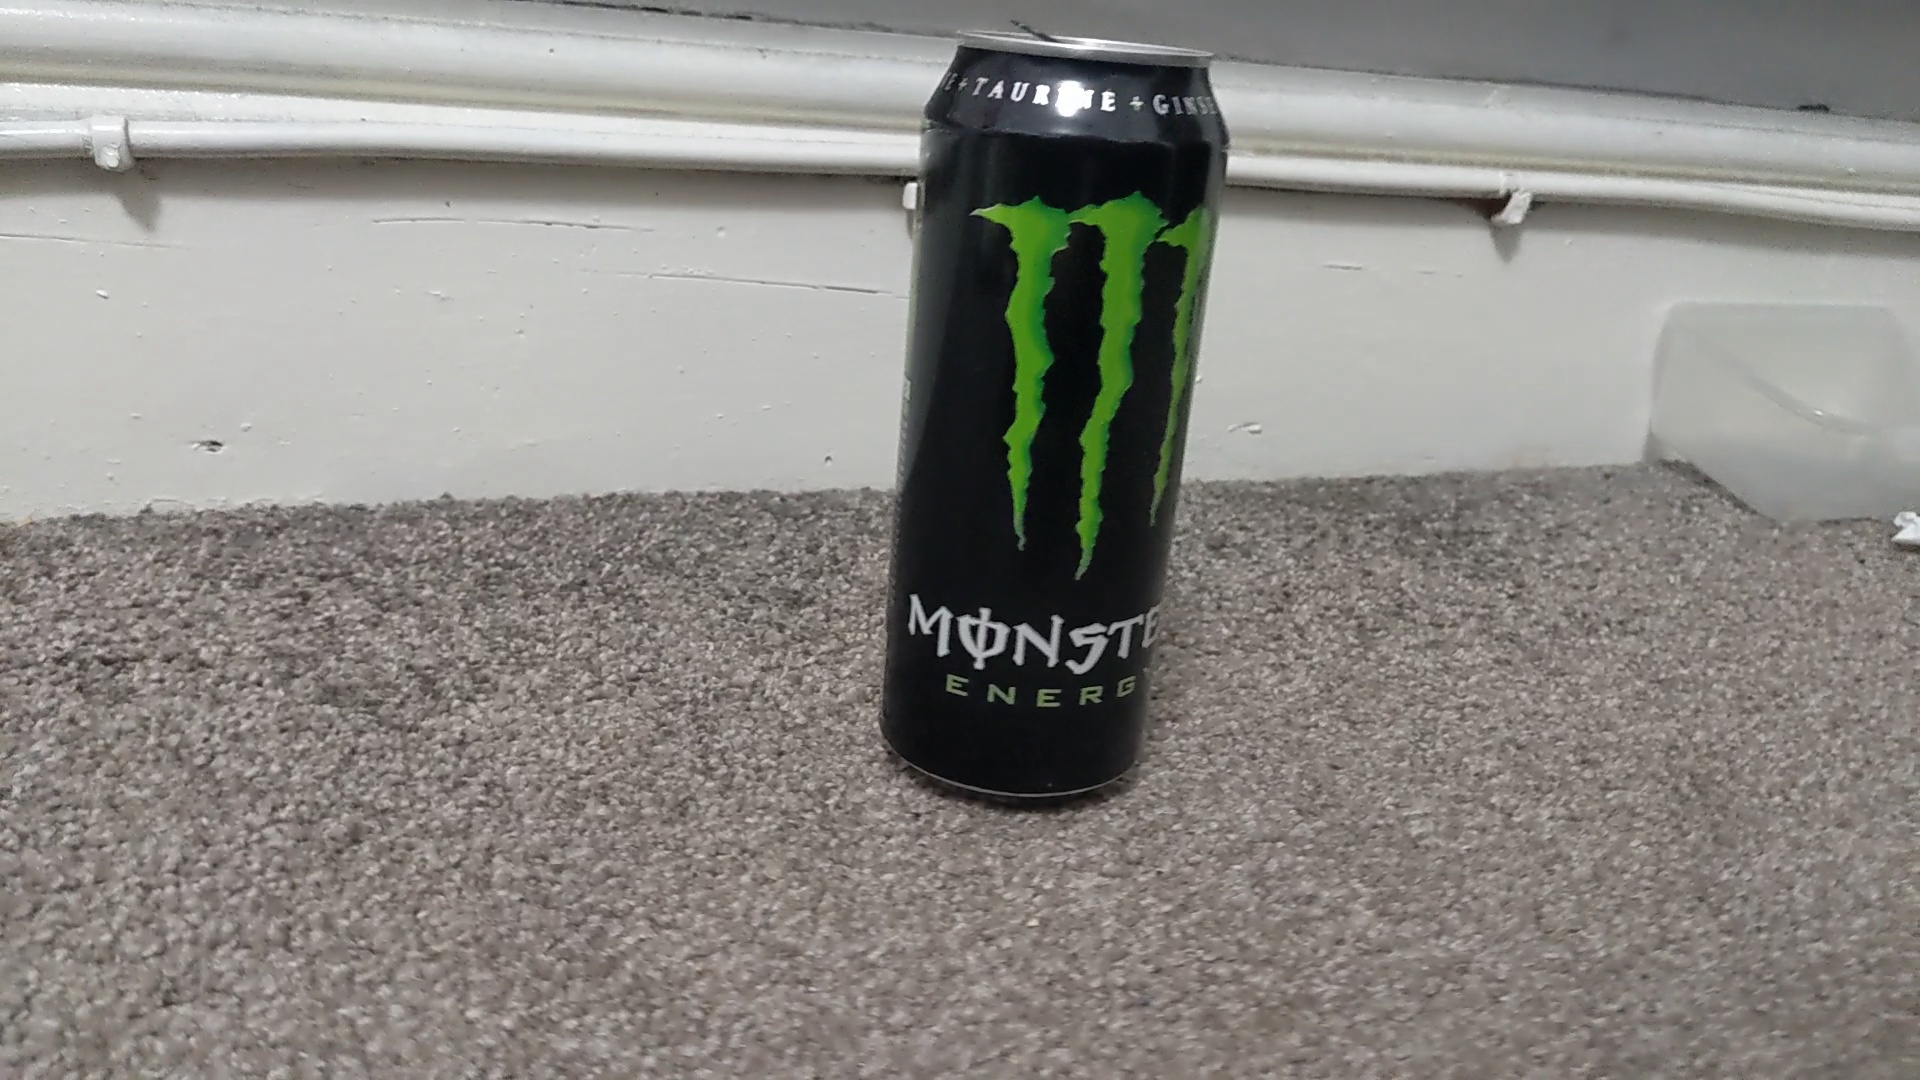monster-original: (873, 26, 1233, 799)
